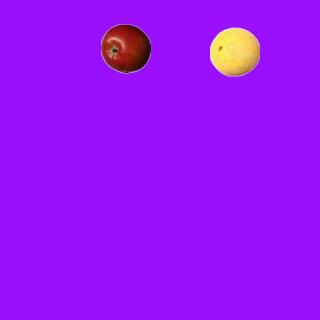Apple Braeburn: (100, 23, 150, 73)
Cantaloupe 1: (209, 26, 259, 76)
